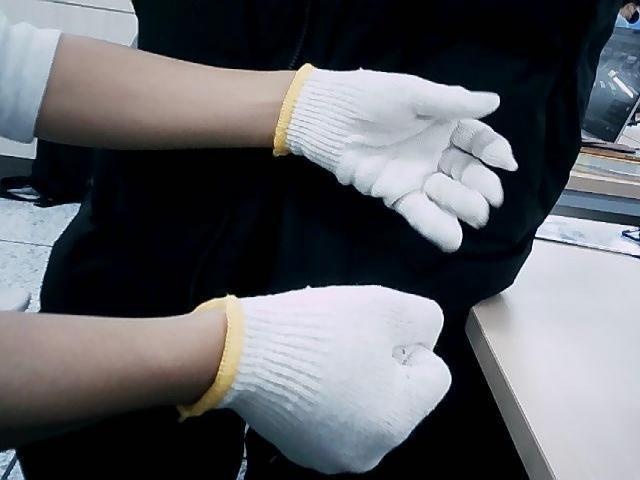Hand-in-Glove: (274, 62, 520, 250), (223, 284, 452, 474)
